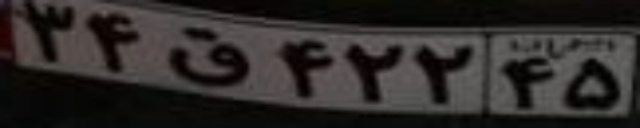2: (344, 44, 403, 103), (417, 46, 472, 104)
3: (18, 1, 81, 65)
4: (82, 12, 141, 73), (278, 38, 337, 96), (501, 57, 555, 109)
5: (559, 58, 623, 109)
ghaf: (162, 27, 250, 89)
